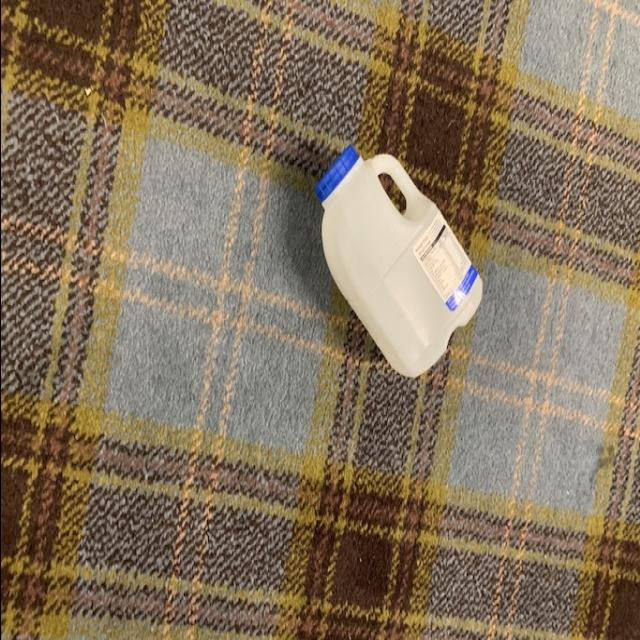HDPEM: (306, 136, 486, 386)
